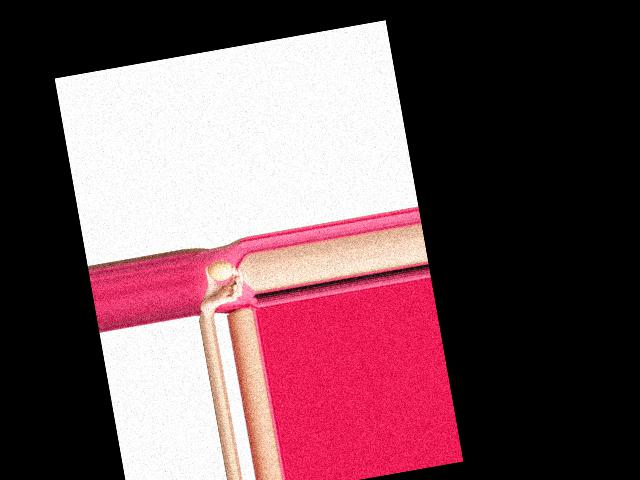egg: (206, 259, 235, 283)
